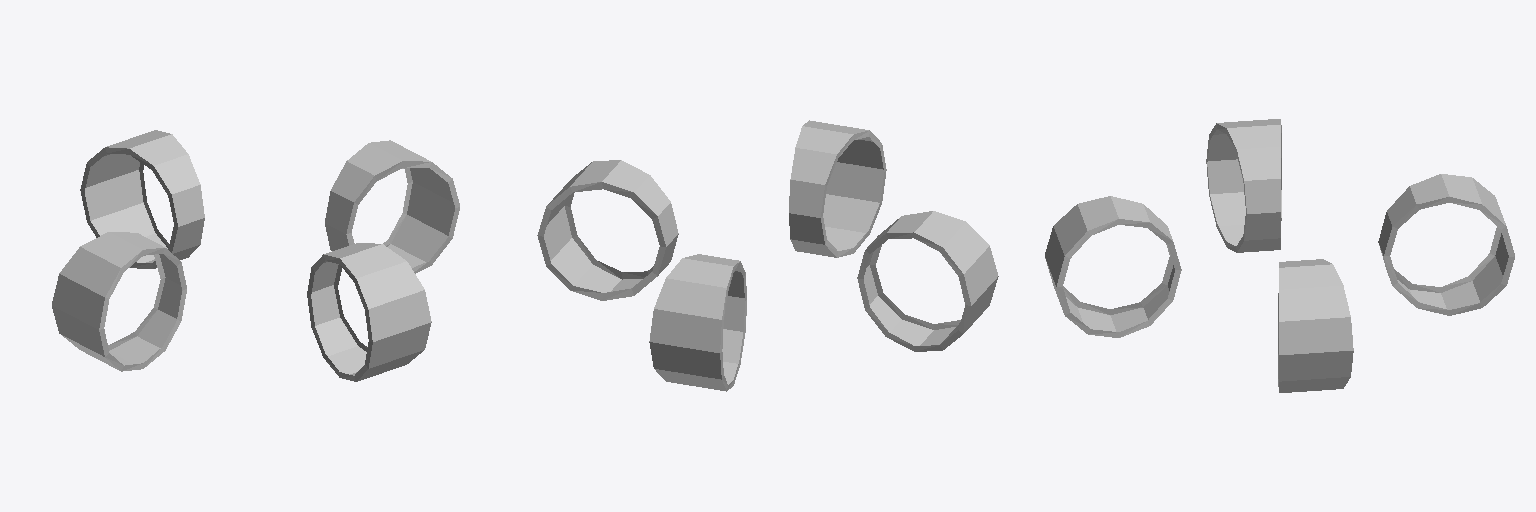
Rendered from safetyFloaterStrap.obj.
The picture shows the model from 3 angles: view 1: azimuth 30°, elevation 25°; view 2: azimuth 150°, elevation 25°; view 3: azimuth 270°, elevation 25°; orthographic projection.
Visible parts, largest first — view 1: Object001_Object001Mesh; view 2: Object001_Object001Mesh; view 3: Object001_Object001Mesh.
Boxes of the visible parts, box(x1,y1,x2,y2) form: Object001_Object001Mesh: box(52, 130, 459, 381); Object001_Object001Mesh: box(537, 120, 998, 391); Object001_Object001Mesh: box(1045, 119, 1514, 392).
Size of the model in its own units: 0.9026 by 0.2526 by 0.9026.